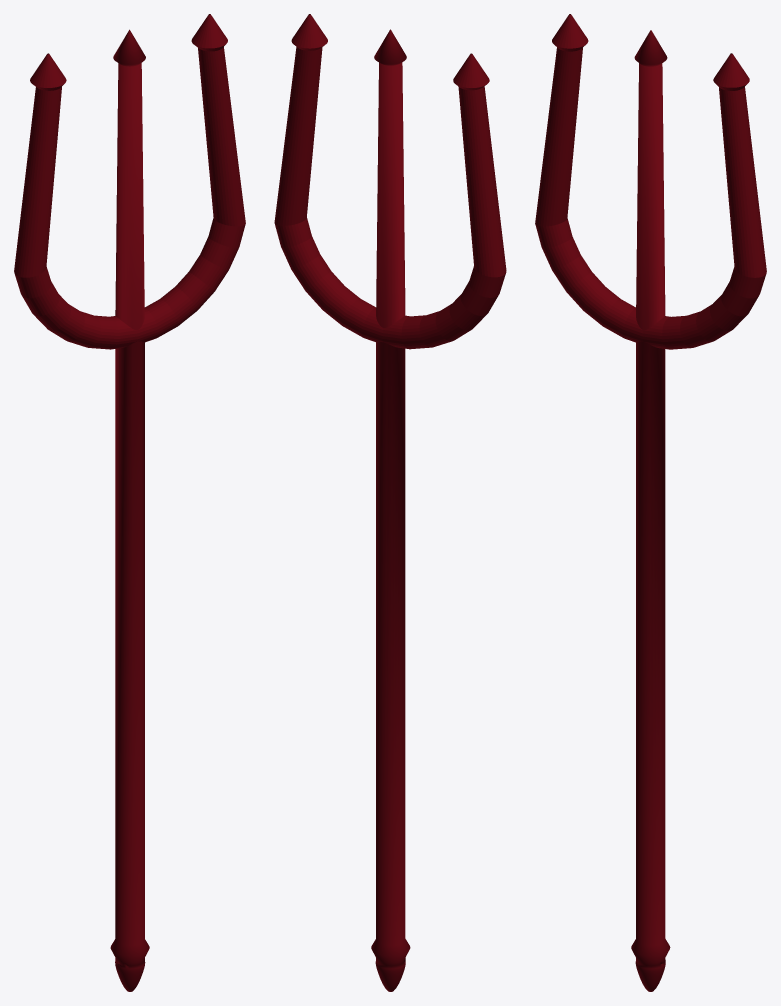
Rendered from AD_Trident.fbx.
The picture shows the model from 3 angles, left to right: view 1: azimuth 30°, elevation 25°; view 2: azimuth 150°, elevation 25°; view 3: azimuth 330°, elevation 25°; orthographic projection.
Visible parts, largest first — view 1: D_Staff; view 2: D_Staff; view 3: D_Staff.
Boxes of the visible parts, bbox=[...] form: D_Staff: bbox=[14, 14, 245, 991]; D_Staff: bbox=[274, 14, 506, 991]; D_Staff: bbox=[535, 14, 766, 991].
Size of the model in its own units: 38.61 by 156 by 5.75.
